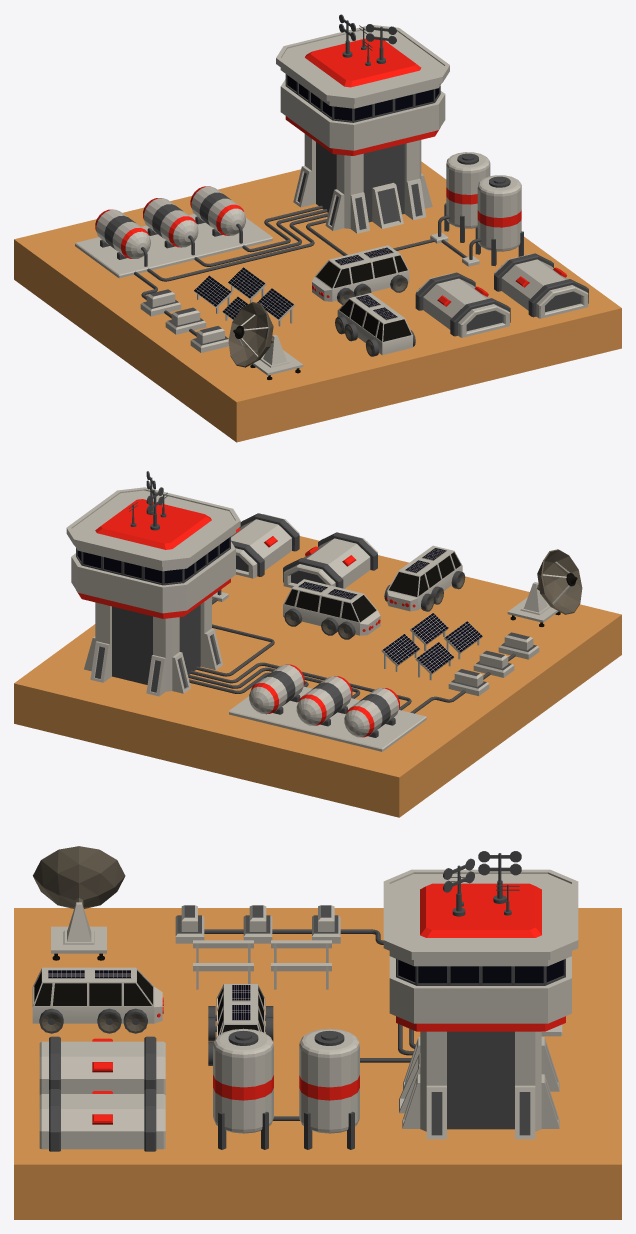
File: 00 Space_20.FBX.glb
3 views of the same model, one above another, from view 1: azimuth 30°, elevation 25°; view 2: azimuth 150°, elevation 25°; view 3: azimuth 270°, elevation 25° (orthographic). The views are drawn at different scales.
Visible parts, largest first — view 1: Box001.2, Box002.3, Sphere003.4, Cylinder001.12, Box152.7, Box015.6, Box149.18, Box042.17, Box006.9, Line001.5, Box153.8, Cylinder020.10 (+3 smaller); view 2: Box001.2, Box002.3, Sphere003.4, Box149.18, Box152.7, Box042.17, Box006.9, Box015.6, Box153.8, Line001.5, Box154.14, Box156.16 (+3 smaller); view 3: Box001.2, Box002.3, Cylinder001.12, Box042.17, Box015.6, Box152.7, Box006.9, Box153.8, Box149.18, Cylinder020.10, Box156.16, Box155.15 (+3 smaller).
Boxes of the visible parts, x1,y1,x2,y2 form: Box001.2: (14,161,621,442); Box002.3: (276,25,449,233); Sphere003.4: (75,186,272,278); Cylinder001.12: (430,152,523,266); Box152.7: (415,272,510,337); Box015.6: (494,253,588,318); Box149.18: (312,245,409,304); Box042.17: (335,293,415,356); Box006.9: (228,302,303,379); Line001.5: (147,205,434,281); Box153.8: (134,271,228,352); Cylinder020.10: (339,14,396,65); Box001.2: (14,536,621,817); Box002.3: (66,487,240,696); Sphere003.4: (229,664,426,751); Box149.18: (283,579,380,639); Box152.7: (283,532,377,588); Box042.17: (384,545,465,611); Box006.9: (507,549,582,626); Box015.6: (231,513,299,578); Box153.8: (410,632,539,713); Line001.5: (187,624,411,710); Box154.14: (415,642,454,680); Box156.16: (381,633,419,671); Box001.2: (14,908,621,1219); Box002.3: (383,869,578,1139); Cylinder001.12: (213,1028,359,1149); Box042.17: (32,967,163,1033); Box015.6: (39,1089,165,1151); Box152.7: (39,1036,165,1094); Box006.9: (33,846,125,960); Box153.8: (175,905,383,944); Box149.18: (208,984,273,1065); Cylinder020.10: (443,851,521,916); Box156.16: (271,963,331,989); Box155.15: (193,963,253,989).
Size of the model in its own units: 10000 by 5519 by 10000.
